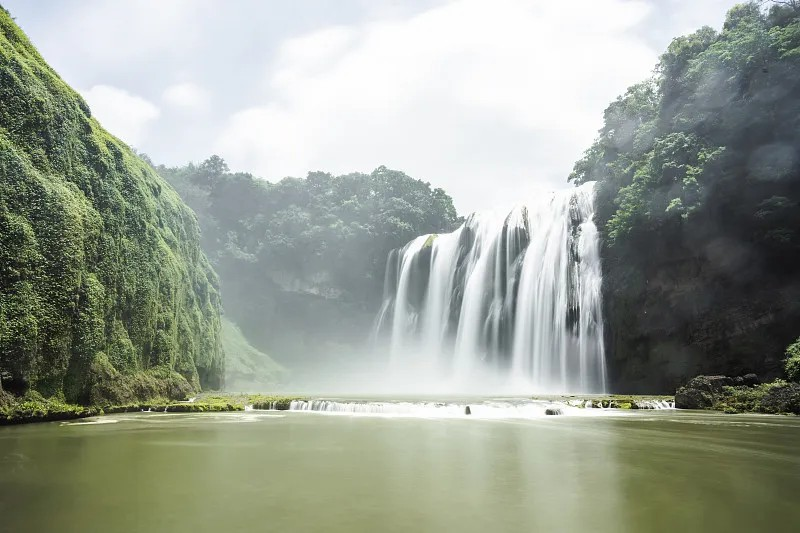Huangguoshu: (376, 181, 609, 396)
